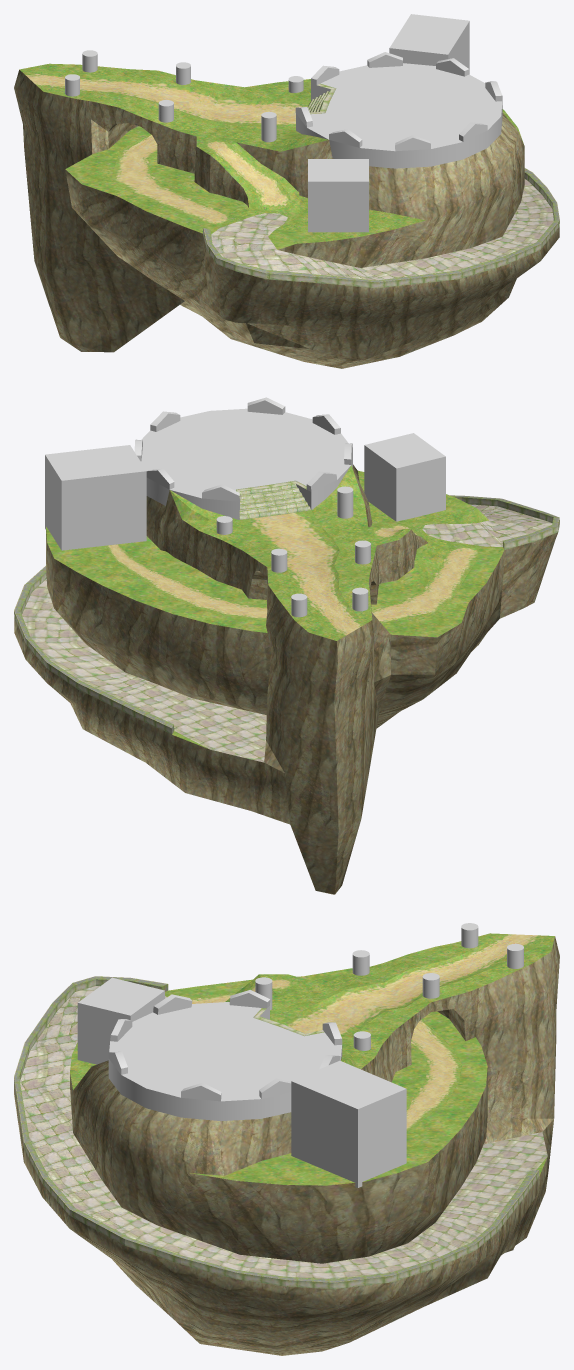
The model's file is testisland.fbx.
3 renders of one model, top to bottom at view 1: azimuth 30°, elevation 25°; view 2: azimuth 150°, elevation 25°; view 3: azimuth 270°, elevation 25°, orthographic. The views are drawn at different scales.
Visible parts, largest first — view 1: Island 1, Plane001, Cylinder001, Box002, Box001, Cylinder003; view 2: Island 1, Plane001, Cylinder001, Box001, Box002; view 3: Island 1, Cylinder001, Plane001, Box001, Box002.
Boxes of the visible parts, x1,y1,x2,y2 form: Island 1: [14, 52, 559, 368]; Plane001: [19, 63, 523, 249]; Cylinder001: [296, 63, 502, 168]; Box002: [308, 159, 368, 232]; Box001: [389, 14, 469, 74]; Cylinder003: [261, 111, 276, 142]; Island 1: [14, 397, 559, 894]; Plane001: [46, 465, 504, 748]; Cylinder001: [141, 408, 352, 519]; Box001: [45, 445, 146, 550]; Box002: [364, 433, 445, 521]; Island 1: [14, 933, 559, 1355]; Cylinder001: [108, 1002, 342, 1121]; Plane001: [70, 933, 554, 1185]; Box001: [291, 1060, 406, 1187]; Box002: [77, 977, 164, 1064].
Size of the model in its own units: 4272 by 2837 by 4235.
